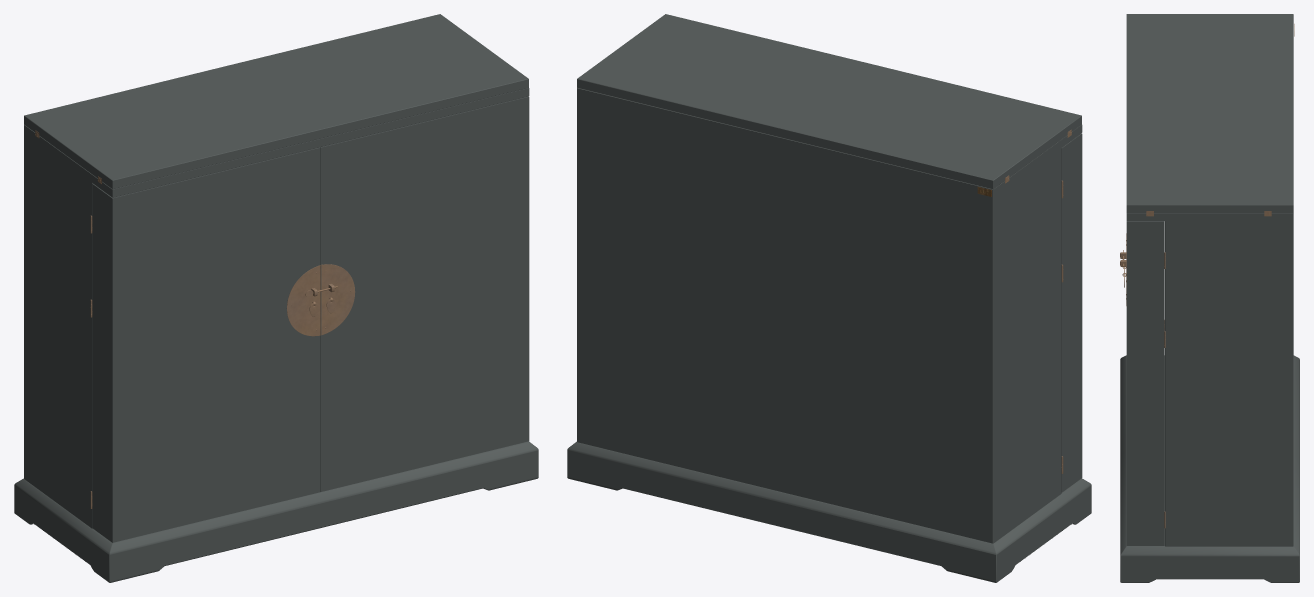
File: wine_bar_orient.gltf
3 renders of one model, left to right at view 1: azimuth 30°, elevation 25°; view 2: azimuth 150°, elevation 25°; view 3: azimuth 270°, elevation 25°, orthographic. The views are drawn at different scales.
Parts seen in each view (by area): view 1: Mesh; view 2: Mesh; view 3: Mesh.
Boxes of the visible parts, bbox=[...] form: Mesh: bbox=[14, 14, 538, 582]; Mesh: bbox=[567, 14, 1091, 582]; Mesh: bbox=[1120, 14, 1299, 582].
Bounding box in the file's own units: 1.22 × 1.09 × 0.4705.
Materials: 1 (1 with a texture image).
